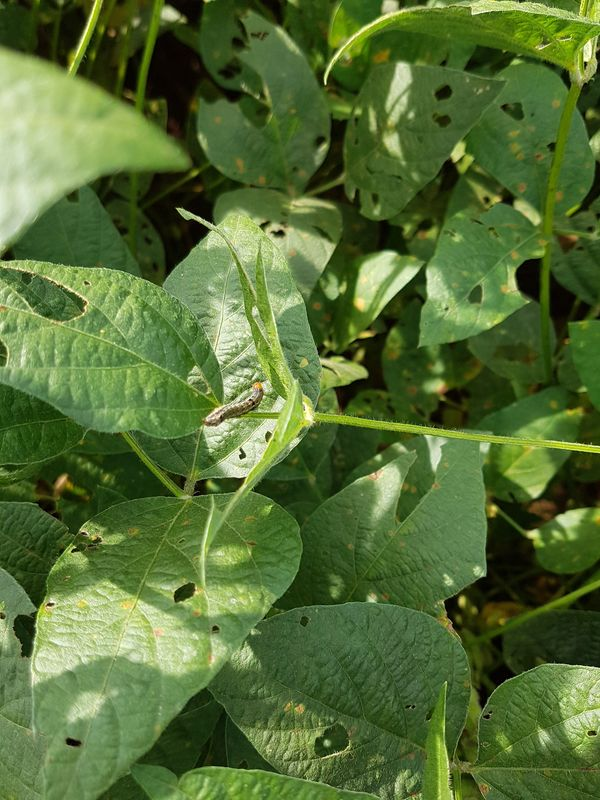Spodoptera_albula: (195, 375, 269, 429)
